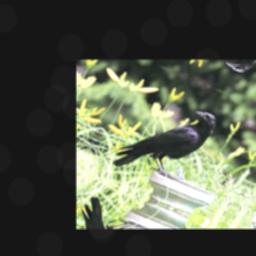Crow: (106, 89, 222, 192)
